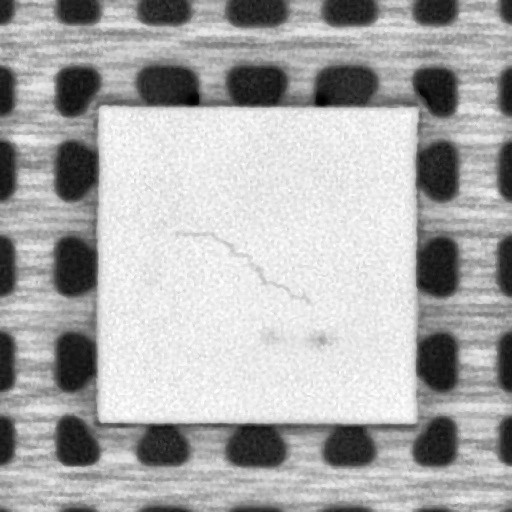DIE_CRACK: (169, 227, 313, 304)
